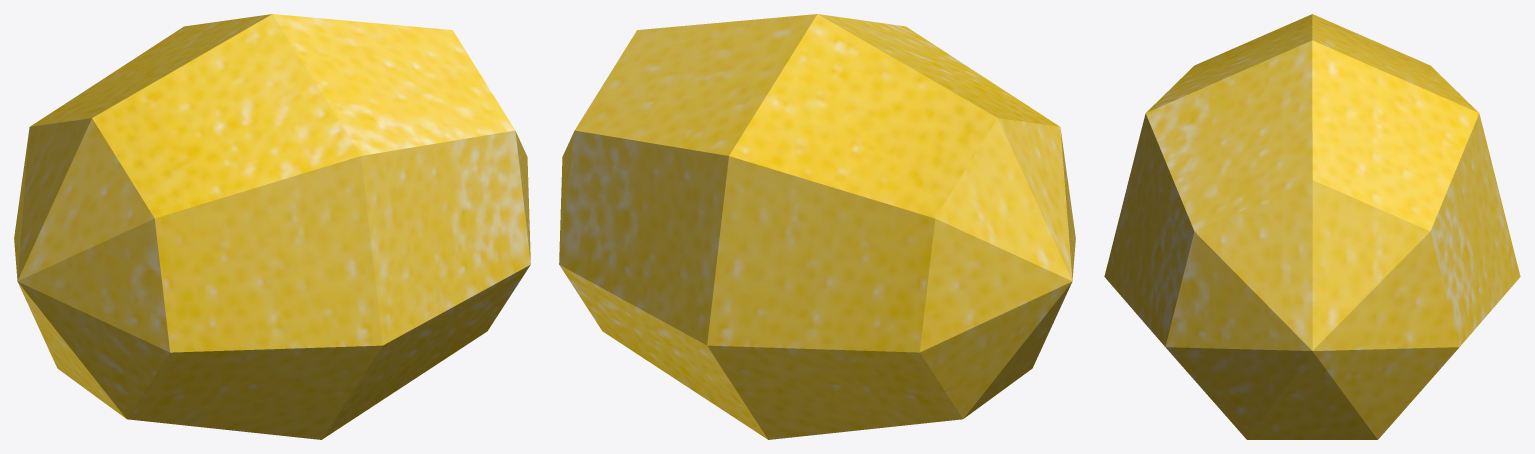
File: lemon.gltf
3 renders of one model, left to right at view 1: azimuth 30°, elevation 25°; view 2: azimuth 150°, elevation 25°; view 3: azimuth 270°, elevation 25°, orthographic. The views are drawn at different scales.
Parts seen in each view (by area): view 1: LemonRight, LemonLeft; view 2: LemonRight, LemonLeft; view 3: LemonLeft, LemonRight.
Boxes of the visible parts, <box> form: LemonRight: <box>14,19,329,439</box>; LemonLeft: <box>233,14,530,435</box>; LemonRight: <box>653,29,1075,439</box>; LemonLeft: <box>559,14,953,405</box>; LemonLeft: <box>1104,36,1498,439</box>; LemonRight: <box>1161,14,1520,301</box>.
Size of the model in its own units: 1.31 by 0.9556 by 0.9802.
Materials: 2 (2 with a texture image).
